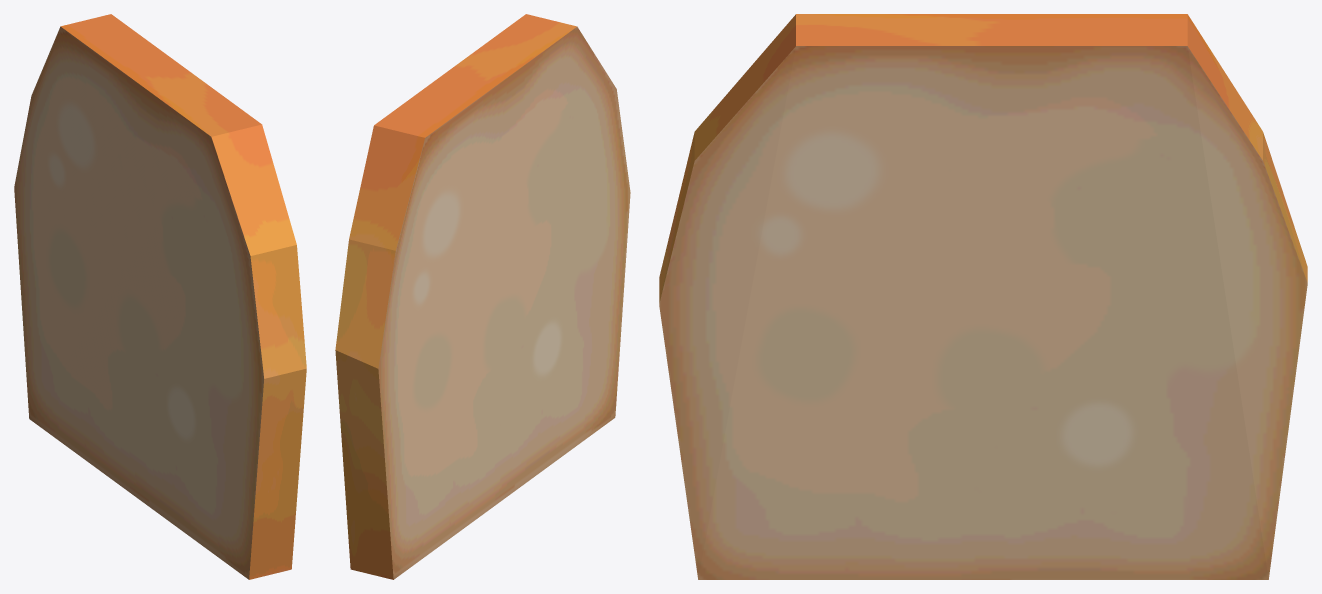
The model's file is Bread CUT.fbx.
The picture shows the model from 3 angles, left to right: view 1: azimuth 30°, elevation 25°; view 2: azimuth 150°, elevation 25°; view 3: azimuth 270°, elevation 25°; orthographic projection. The views are drawn at different scales.
Parts seen in each view (by area): view 1: Bread CUT; view 2: Bread CUT; view 3: Bread CUT.
Boxes of the visible parts, x1,y1,x2,y2 form: Bread CUT: (14, 14, 306, 579); Bread CUT: (335, 14, 630, 579); Bread CUT: (659, 14, 1307, 579).
Size of the model in its own units: 10.41 by 81.45 by 88.83.
